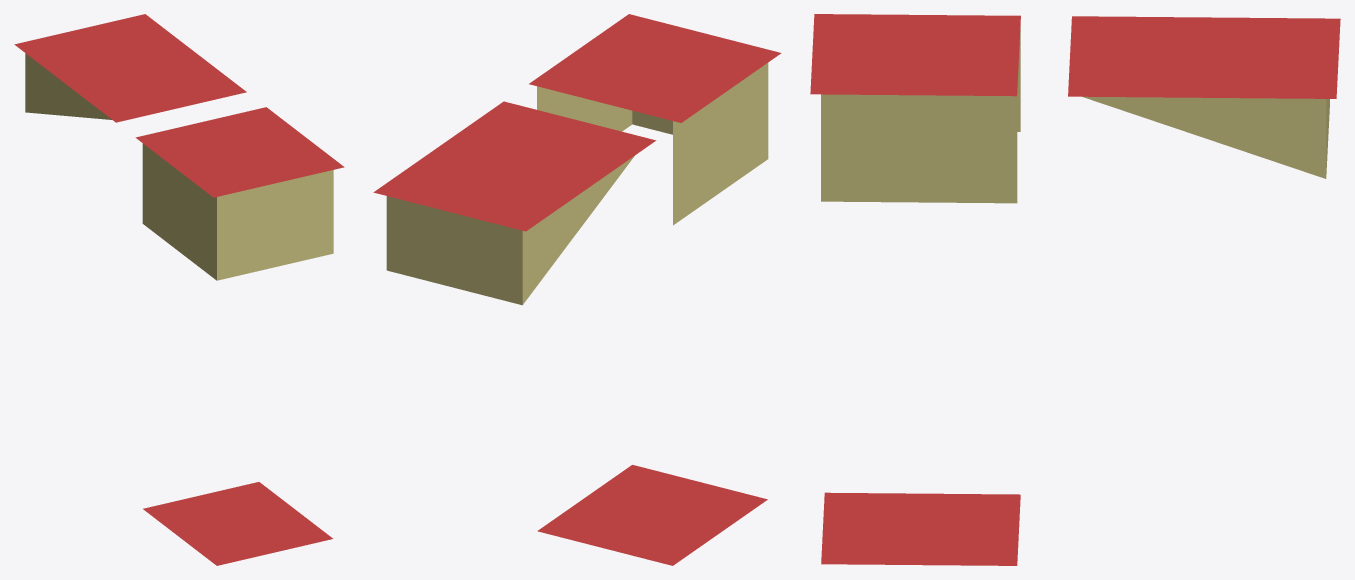
3 renders of one model, left to right at view 1: azimuth 30°, elevation 25°; view 2: azimuth 150°, elevation 25°; view 3: azimuth 270°, elevation 25°, orthographic. The views are drawn at different scales.
Visible parts, largest first — view 1: group_3, group_5, group_6, group_4; view 2: group_3, group_5, group_6, group_4; view 3: group_3, group_5, group_6, group_4.
Boxes of the visible parts, box(x1,y1,x2,y2) form: group_3: box(14, 14, 344, 197); group_5: box(25, 53, 333, 280); group_6: box(143, 482, 332, 565); group_4: box(50, 14, 343, 196); group_3: box(373, 14, 781, 231); group_5: box(386, 63, 768, 305); group_6: box(537, 465, 767, 565); group_4: box(380, 14, 775, 220); group_3: box(810, 14, 1340, 98); group_5: box(821, 26, 1329, 203); group_6: box(821, 492, 1020, 565); group_4: box(810, 14, 1335, 96).
Size of the model in its own units: 4.78 by 12.58 by 12.42.
